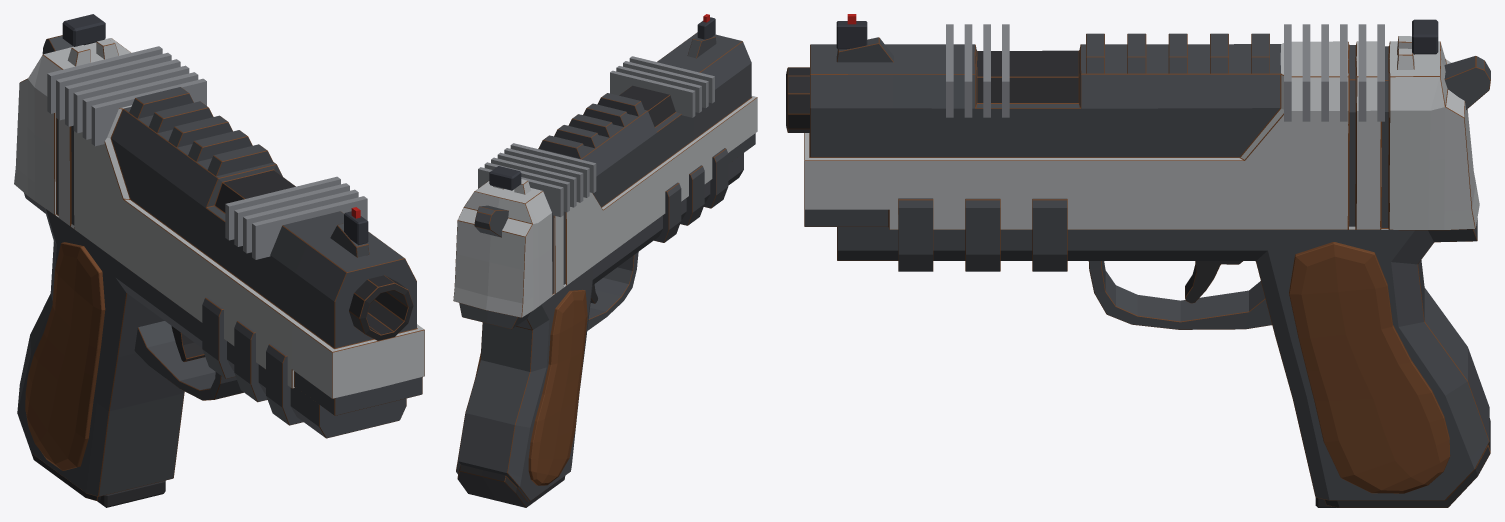
The model's file is service_pistol.glb.
3 views of the same model, side by side, from view 1: azimuth 30°, elevation 25°; view 2: azimuth 150°, elevation 25°; view 3: azimuth 270°, elevation 25° (orthographic). The views are drawn at different scales.
Visible parts, largest first — view 1: service_pistol; view 2: service_pistol; view 3: service_pistol.
Part boxes in pixels (box(x1,y1,x2,y2)): service_pistol: box(14, 14, 424, 507); service_pistol: box(453, 14, 757, 507); service_pistol: box(786, 14, 1490, 507).
Size of the model in its own units: 0.0568 by 0.2201 by 0.294.
